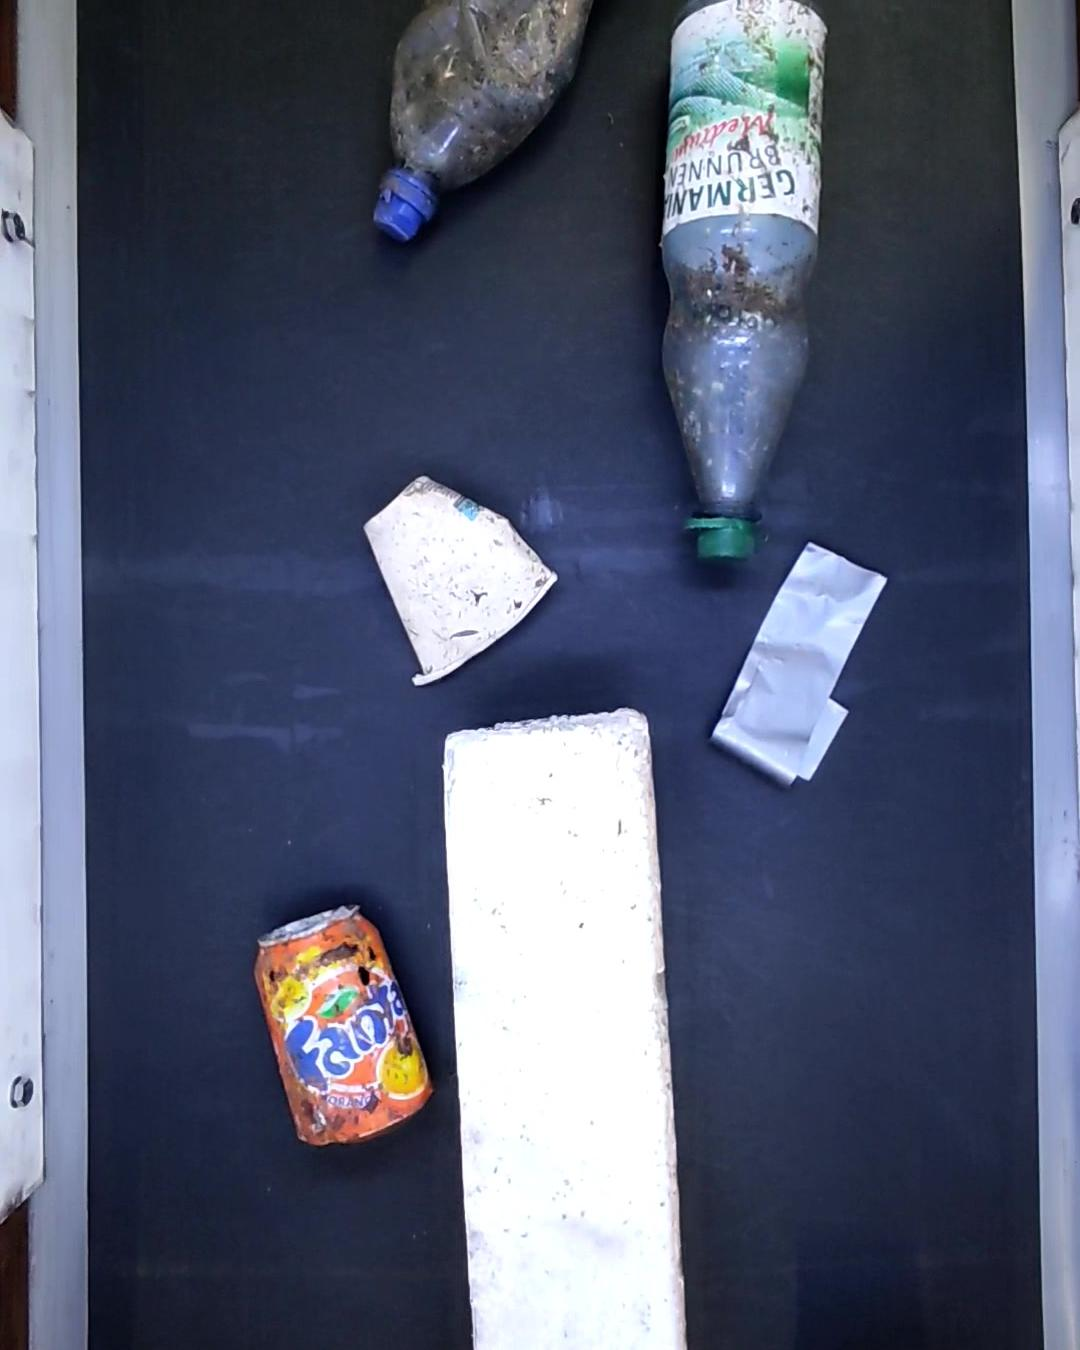Drankblikjes: (249, 900, 430, 1155)
Drankflessen - 1-2 liter: (662, 0, 825, 571), (371, 0, 585, 238)
